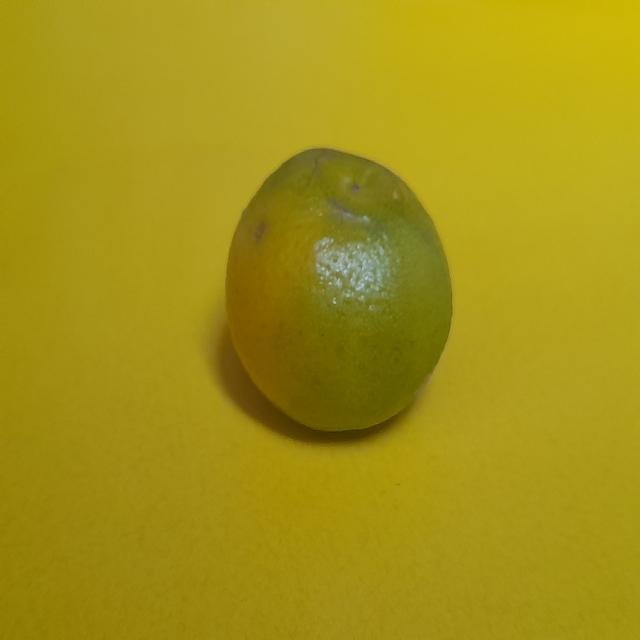greening: (224, 124, 478, 431)
